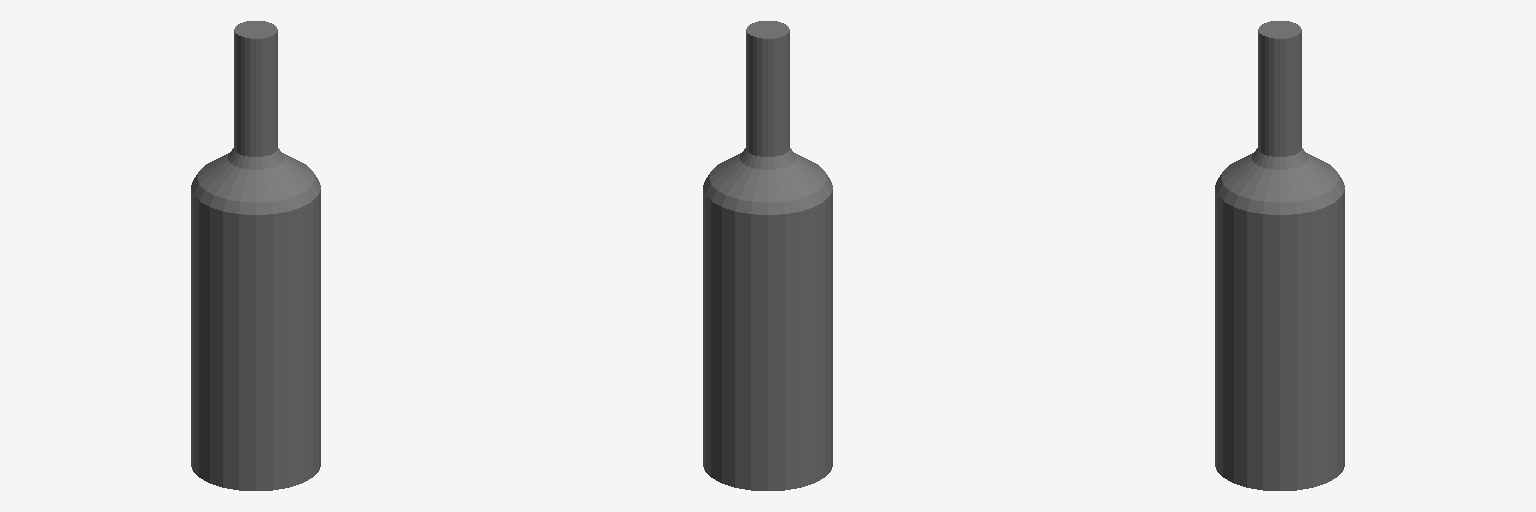
URDF robot description (object):
<?xml version="1.0"?>
<robot name="object">
  <link name="object">
    <visual>
      <origin xyz="0 0 0"/>
      <geometry>
        <mesh
          filename="../../mesh/oakink_virtual/cylinder_bottle_s310.stl" />
      </geometry>
      <material name="mat">
        <color rgba="0.5 0.5 0.5 1"/>
      </material>
    </visual>

    <collision>
      <origin xyz="0 0 0"/>
      <geometry>
        <mesh
          filename="../../mesh/oakink_virtual/cylinder_bottle_s310.stl" />
      </geometry>
    </collision>
  </link>
</robot>

--- Facts derived from the render (not from the file) ---
3 views of the same robot in one strip: view 1: azimuth 30°, elevation 25°; view 2: azimuth 150°, elevation 25°; view 3: azimuth 270°, elevation 25° (orthographic).
Robot: object — 1 links, 0 joints (none); root link object; default pose: all joints at 0.
Visible links, largest first — view 1: object; view 2: object; view 3: object.
Boxes of the visible links, x1=… form: object: x1=191, y1=21, x2=320, y2=490; object: x1=703, y1=21, x2=832, y2=490; object: x1=1215, y1=21, x2=1344, y2=490.
Size in the robot's own frame: 0.0703 by 0.0703 by 0.2578 metres.
1 mesh visuals loaded from 1 distinct referenced files (1 binary STL).